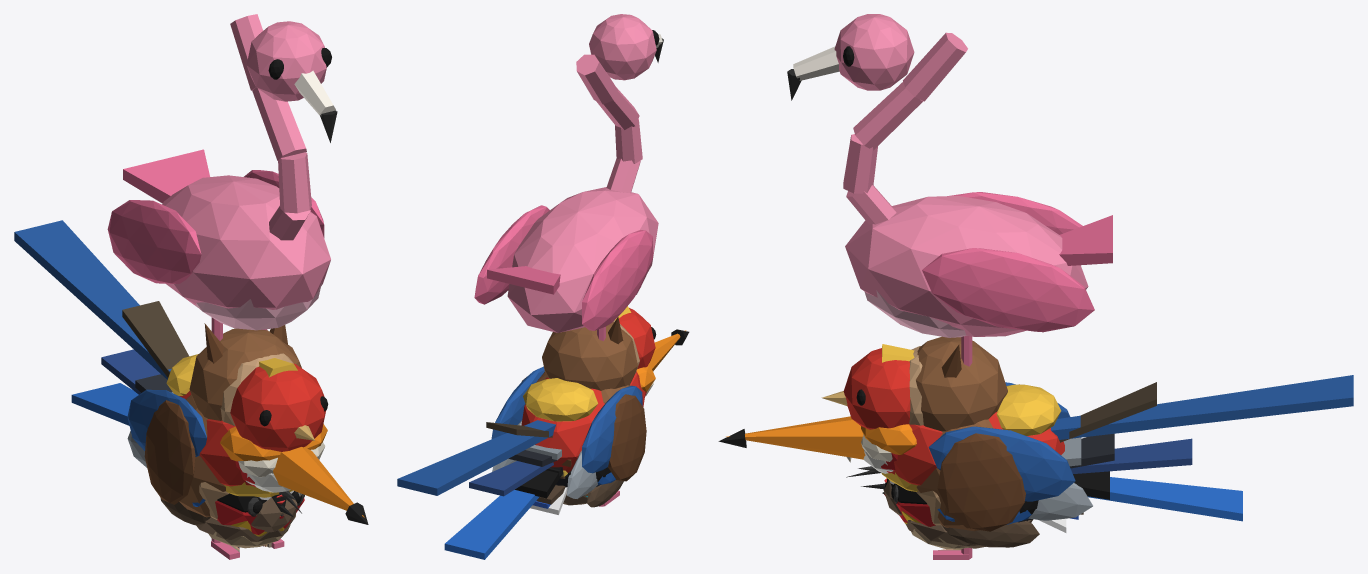
File: birds.glb
3 renders of one model, left to right at view 1: azimuth 30°, elevation 25°; view 2: azimuth 150°, elevation 25°; view 3: azimuth 270°, elevation 25°, orthographic. The views are drawn at different scales.
Parts seen in each view (by area): view 1: bird_flamingo_body, bird_pheasant_head, bird_pheasant_tail, bird_flamingo_head, bird_flamingo_wingL, bird_owl_head, bird_owl_wingL, bird_toucan_head, bird_pheasant_body, bird_flamingo_tail, bird_roadrunner_tail, bird_pheasant_wingL (+12 smaller); view 2: bird_flamingo_body, bird_owl_head, bird_pheasant_body, bird_flamingo_wingL, bird_pheasant_tail, bird_flamingo_head, bird_parrot_tail, bird_owl_wingL, bird_flamingo_wingR, bird_pheasant_wingL, bird_pheasant_head, bird_magpie_tail (+8 smaller); view 3: bird_flamingo_body, bird_flamingo_wingR, bird_owl_head, bird_pheasant_tail, bird_owl_wingR, bird_pheasant_head, bird_flamingo_head, bird_pheasant_body, bird_pheasant_wingR, bird_parrot_tail, bird_toucan_head, bird_magpie_tail (+9 smaller).
Part boxes in pixels (<box>): bird_flamingo_body: <box>162,14,330,330</box>; bird_pheasant_head: <box>220,358,328,461</box>; bird_pheasant_tail: <box>14,220,171,379</box>; bird_flamingo_head: <box>246,21,337,142</box>; bird_flamingo_wingL: <box>107,200,201,283</box>; bird_owl_head: <box>189,323,301,425</box>; bird_owl_wingL: <box>144,400,195,504</box>; bird_toucan_head: <box>246,447,368,524</box>; bird_pheasant_body: <box>166,354,292,497</box>; bird_flamingo_tail: <box>123,149,209,203</box>; bird_roadrunner_tail: <box>122,301,189,377</box>; bird_pheasant_wingL: <box>127,389,206,456</box>; bird_flamingo_body: <box>507,54,658,332</box>; bird_owl_head: <box>542,317,639,390</box>; bird_pheasant_body: <box>521,371,645,472</box>; bird_flamingo_wingL: <box>582,230,652,330</box>; bird_pheasant_tail: <box>397,420,555,495</box>; bird_flamingo_head: <box>589,14,663,80</box>; bird_parrot_tail: <box>444,490,539,559</box>; bird_owl_wingL: <box>608,394,646,481</box>; bird_flamingo_wingR: <box>474,205,549,304</box>; bird_pheasant_wingL: <box>582,385,642,473</box>; bird_pheasant_head: <box>615,306,656,392</box>; bird_magpie_tail: <box>469,461,553,496</box>; bird_flamingo_body: <box>843,32,1088,337</box>; bird_flamingo_wingR: <box>922,248,1094,332</box>; bird_owl_head: <box>909,336,1007,431</box>; bird_pheasant_tail: <box>1051,375,1353,439</box>; bird_owl_wingR: <box>937,433,1025,531</box>; bird_pheasant_head: <box>821,344,916,454</box>; bird_flamingo_head: <box>787,14,914,100</box>; bird_pheasant_body: <box>881,384,1064,491</box>; bird_pheasant_wingR: <box>928,426,1075,501</box>; bird_parrot_tail: <box>1087,477,1242,521</box>; bird_toucan_head: <box>718,416,893,473</box>; bird_magpie_tail: <box>1070,438,1192,473</box>.
Size of the model in its own units: 0.4772 by 1.66 by 1.81.
